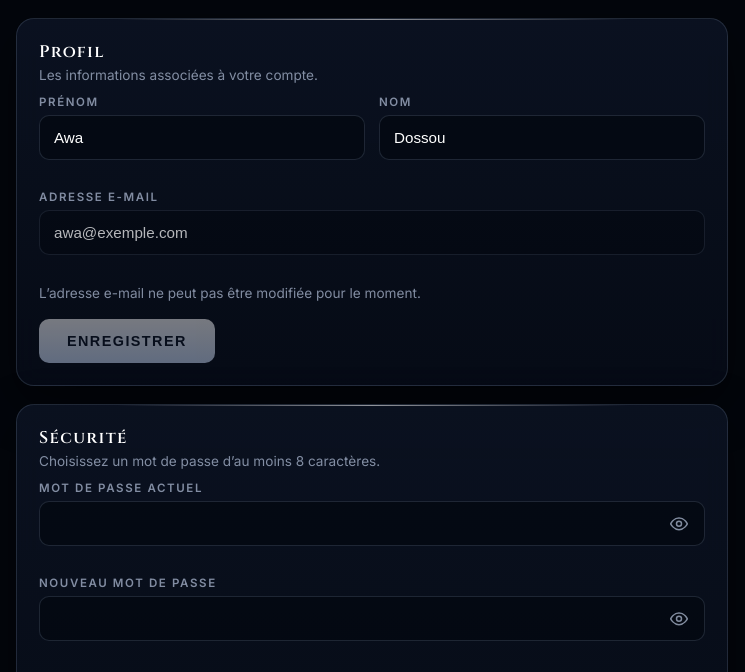
Settings : mot de passe › refuse un mot de passe de moins de 8 caractères
This screenshot has width=745, height=672.
Check: the field showing "Awa" is shown, box [39, 115, 365, 160]
Type "ancien123" into the password field labelled "Mot de passe actuel" at (372, 524), box [39, 501, 705, 546]
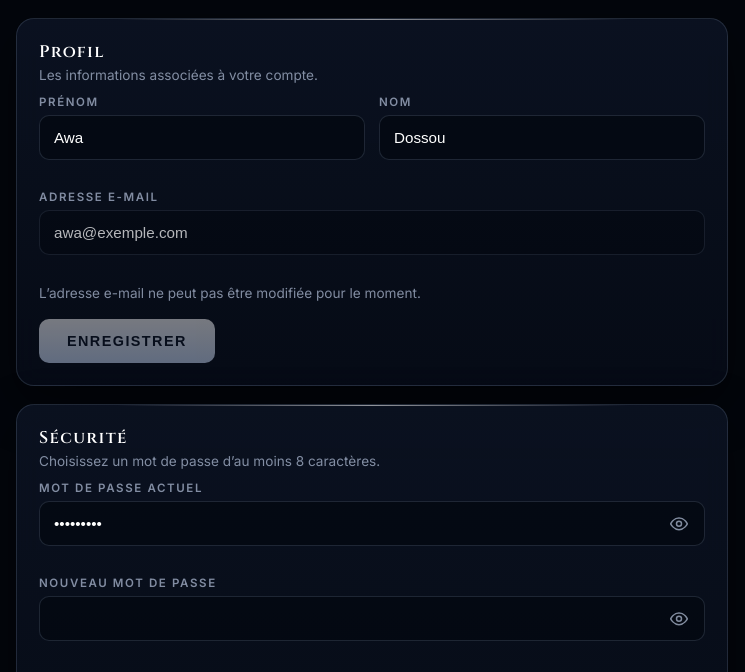
Type "court" into the password field labelled "Nouveau mot de passe" at (372, 618), box [39, 596, 705, 641]
(page scrolled)
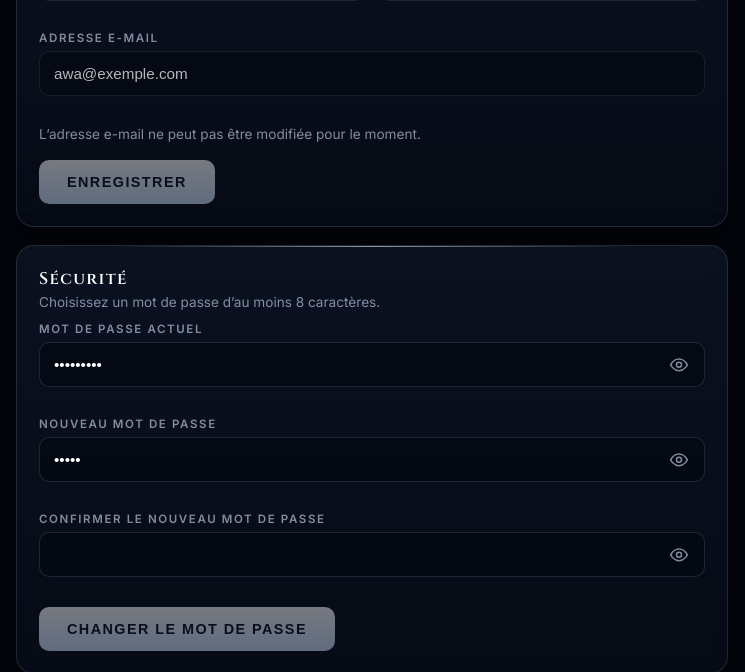
Type "court" into the password field labelled "Confirmer le nouveau mot de passe" at (372, 554), box [39, 532, 705, 577]
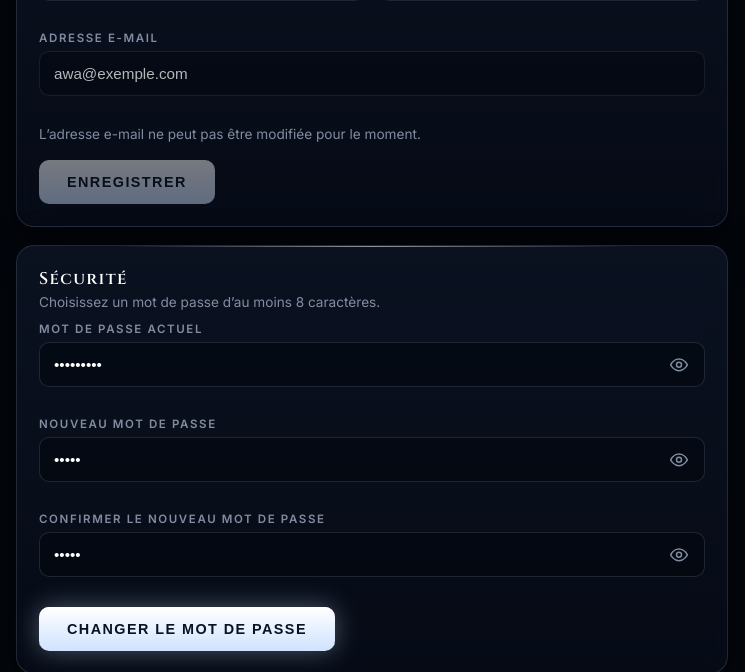
Click the button "Changer le mot de passe" at (187, 629), box [39, 607, 335, 651]
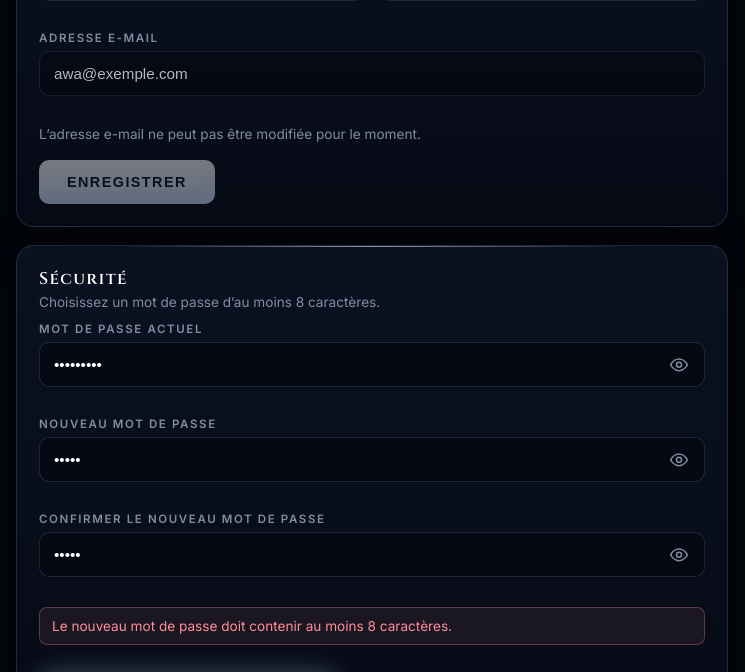
Check: the message shows "au moins 8 caractères", box [52, 618, 452, 634]
